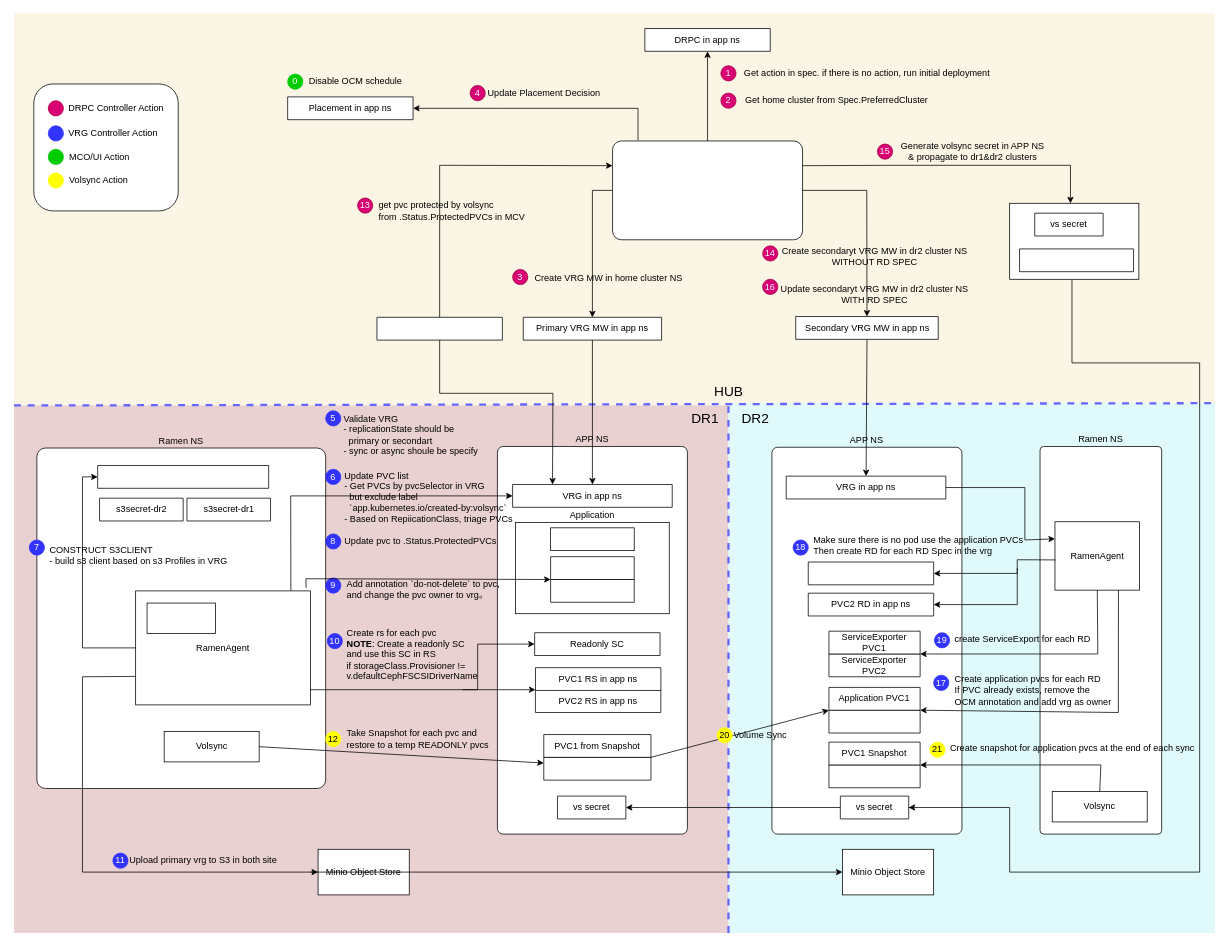
Some shapes in this 1230 by 948 pixel diagram are drawn without their labels. Each missing label, with the centre of its shape:
"Application PVC2" goes at point (874, 721).
"Configmap: ramen-dr-cluster-operator-config" goes at point (183, 476).
"Deployment" goes at point (592, 539).
"DRPC Controller" goes at point (707, 190).
"PVC1 Cephs" goes at point (592, 568).
"PVC1 RD in app ns" goes at point (871, 573).
"PVC2 Cephs" goes at point (592, 590).
"PVC2 from Snapshot" goes at point (597, 768).
"PVC2 Snapshot" goes at point (874, 776).
"S3 Client" goes at point (180, 617).
"VRG MCV in app ns" goes at point (439, 328).
"vs secret policy" goes at point (1076, 260).
